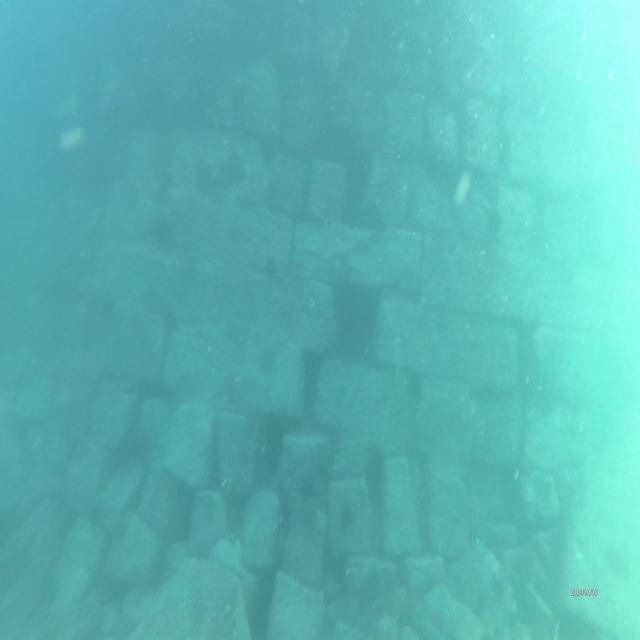echinus: (157, 217, 176, 250), (339, 500, 358, 532), (408, 365, 423, 402), (266, 254, 280, 284)
